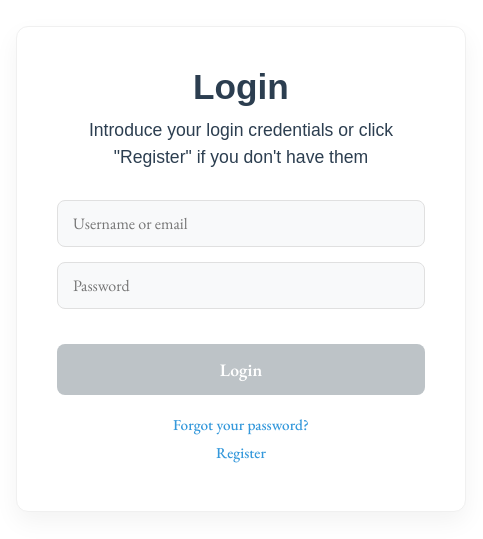
Login › should show error message on failed login
This screenshot has width=483, height=539.
Type "john" into the field with placeholder "Username or email" at (241, 223), box [57,200,425,247]
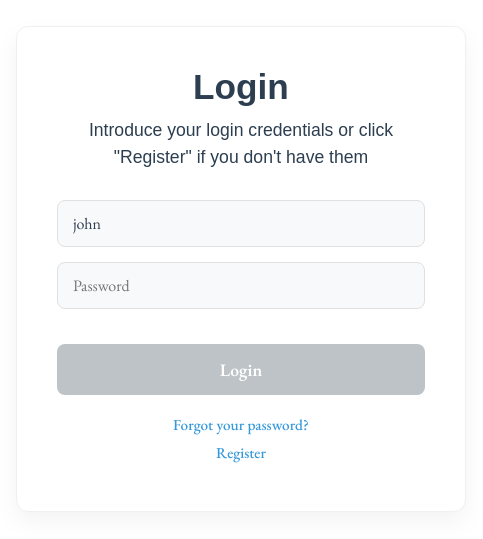
Type "wrong" into the password field with placeholder "Password" at (241, 285), box [57,262,425,309]
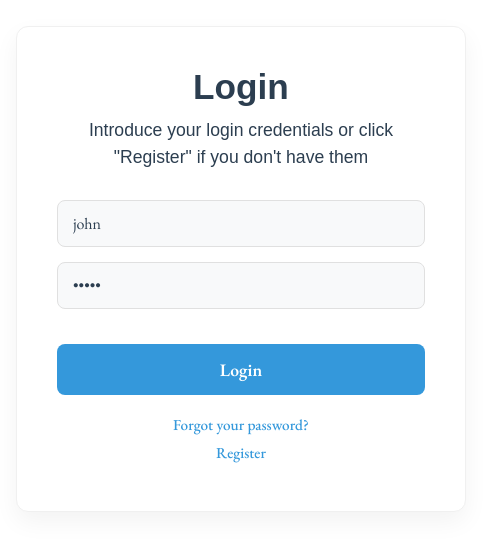
Submit the form with test id "login", box [57,117,425,471]
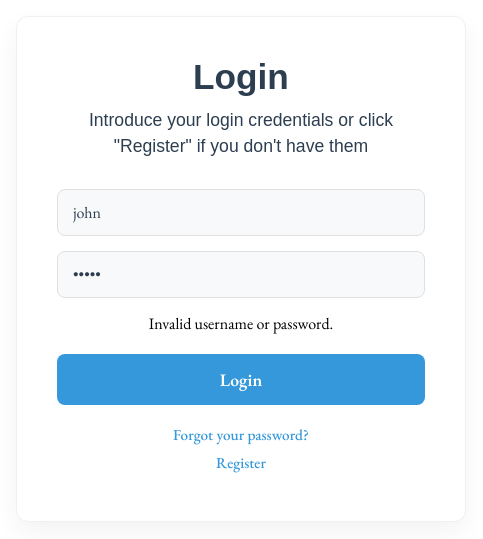
Expected: the text "Invalid username or password." is shown, [149,313,333,334]
